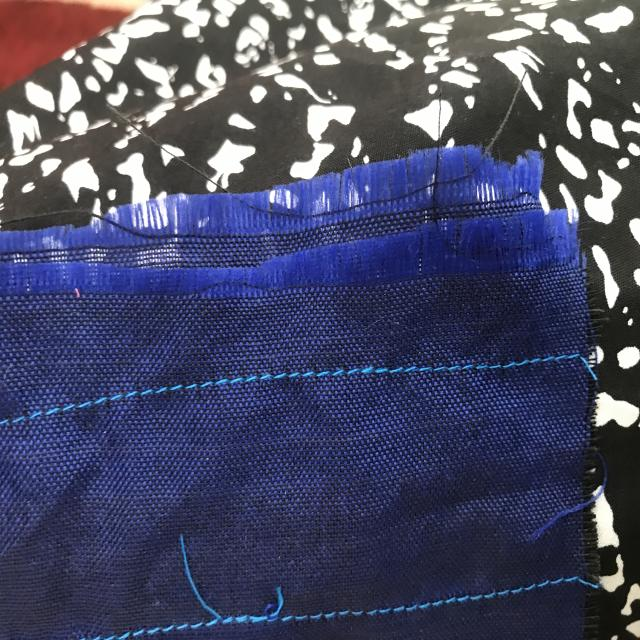good: (403, 358, 548, 387), (208, 369, 359, 390), (36, 398, 94, 422), (533, 370, 551, 370)
